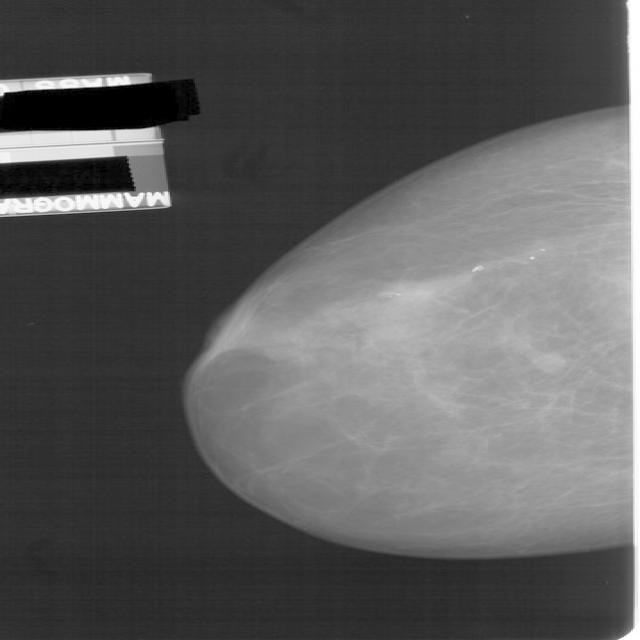tumour: (531, 350, 565, 374)
